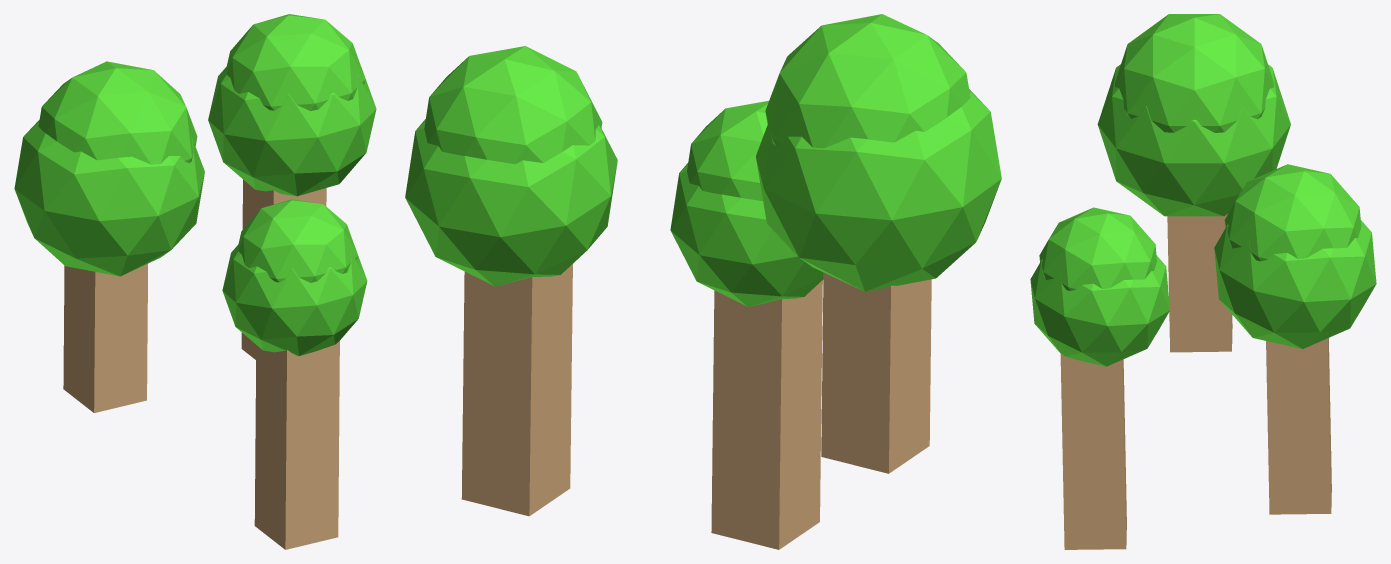
The model's file is Tree.fbx.
3 renders of one model, left to right at view 1: azimuth 30°, elevation 25°; view 2: azimuth 150°, elevation 25°; view 3: azimuth 270°, elevation 25°, orthographic. The views are drawn at different scales.
Parts seen in each view (by area): view 1: Leaves, Wall.005, Leaves.002, Leaves.001, Wall.004, Leaves.004, Leaves.003, Leaves.005, Wall.006; view 2: Leaves, Wall.005, Wall.006, Leaves.002, Leaves.001, Wall.004, Leaves.003, Leaves.004, Leaves.005; view 3: Leaves, Leaves.001, Leaves.002, Wall.005, Wall.006, Leaves.004, Leaves.003, Wall.004, Leaves.005.
Boxes of the visible parts, x1,y1,x2,y2 form: Leaves: (14, 120, 204, 276); Wall.005: (254, 341, 339, 549); Leaves.002: (208, 67, 376, 196); Leaves.001: (38, 61, 197, 164); Wall.004: (63, 264, 147, 412); Leaves.004: (222, 245, 367, 355); Leaves.003: (225, 14, 365, 111); Leaves.005: (237, 199, 357, 282); Wall.006: (241, 179, 326, 359); Leaves: (755, 89, 1001, 291); Wall.005: (711, 280, 822, 549); Wall.006: (461, 264, 572, 516); Leaves.002: (405, 119, 617, 286); Leaves.001: (765, 14, 970, 148); Wall.004: (821, 272, 931, 473); Leaves.003: (424, 46, 602, 164); Leaves.004: (670, 163, 823, 306); Leaves.005: (687, 101, 768, 201); Leaves: (1097, 64, 1290, 216); Leaves.001: (1114, 14, 1274, 132); Leaves.002: (1214, 220, 1376, 348); Wall.005: (1060, 353, 1126, 549); Wall.006: (1266, 338, 1331, 514); Leaves.004: (1030, 255, 1169, 366); Leaves.003: (1224, 164, 1361, 261); Wall.004: (1167, 214, 1232, 352); Leaves.005: (1039, 207, 1156, 290).
Bounding box in the file's own units: 168 × 131 × 191.
